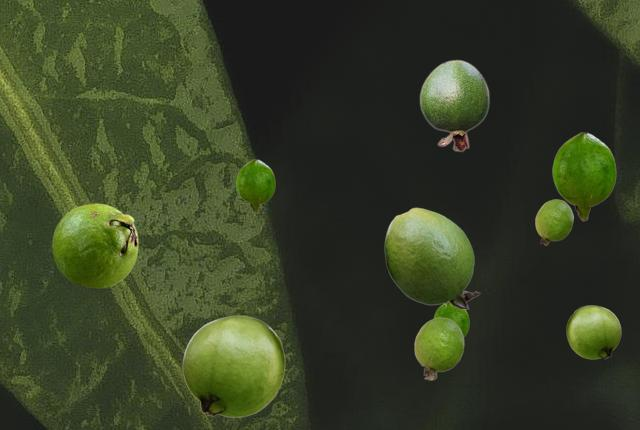guava: (182, 315, 284, 416), (384, 207, 479, 308), (52, 203, 137, 287), (419, 59, 489, 151), (552, 132, 615, 220), (414, 317, 463, 379), (566, 305, 620, 358), (236, 159, 274, 212), (535, 199, 572, 244), (433, 303, 468, 337)
